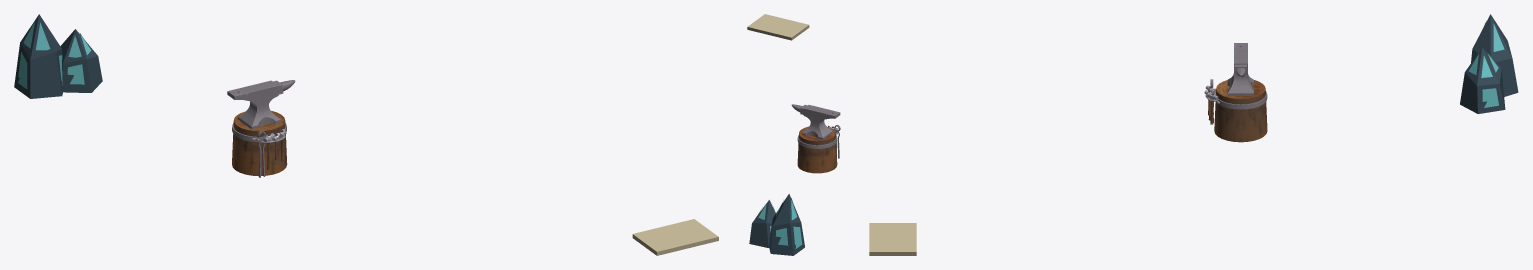
File: forge.gltf
3 renders of one model, left to right at view 1: azimuth 30°, elevation 25°; view 2: azimuth 150°, elevation 25°; view 3: azimuth 270°, elevation 25°, orthographic. The views are drawn at different scales.
Visible parts, largest first — view 1: 41a0ea4834ebc597b74c322625d4b3fb4d4337c8b31ded8edc607916fcb6, b7e1f3c480d365573cb99253e0b1e7ee9b26e4c36b6d7ffdde8a82f703c7, 9b1e8d24c83f2cb2d2683c226d16ac4140f04bdc688472a54ca071e9b6d0; view 2: b7e1f3c480d365573cb99253e0b1e7ee9b26e4c36b6d7ffdde8a82f703c7, 41a0ea4834ebc597b74c322625d4b3fb4d4337c8b31ded8edc607916fcb6, 9b1e8d24c83f2cb2d2683c226d16ac4140f04bdc688472a54ca071e9b6d0; view 3: b7e1f3c480d365573cb99253e0b1e7ee9b26e4c36b6d7ffdde8a82f703c7, 41a0ea4834ebc597b74c322625d4b3fb4d4337c8b31ded8edc607916fcb6, 9b1e8d24c83f2cb2d2683c226d16ac4140f04bdc688472a54ca071e9b6d0.
Boxes of the visible parts, <box> form: 41a0ea4834ebc597b74c322625d4b3fb4d4337c8b31ded8edc607916fcb6: <box>14,14,102,98</box>; b7e1f3c480d365573cb99253e0b1e7ee9b26e4c36b6d7ffdde8a82f703c7: <box>227,80,295,177</box>; 9b1e8d24c83f2cb2d2683c226d16ac4140f04bdc688472a54ca071e9b6d0: <box>632,219,718,255</box>; b7e1f3c480d365573cb99253e0b1e7ee9b26e4c36b6d7ffdde8a82f703c7: <box>791,104,840,173</box>; 41a0ea4834ebc597b74c322625d4b3fb4d4337c8b31ded8edc607916fcb6: <box>749,194,804,255</box>; 9b1e8d24c83f2cb2d2683c226d16ac4140f04bdc688472a54ca071e9b6d0: <box>747,14,809,40</box>; b7e1f3c480d365573cb99253e0b1e7ee9b26e4c36b6d7ffdde8a82f703c7: <box>1204,43,1267,142</box>; 41a0ea4834ebc597b74c322625d4b3fb4d4337c8b31ded8edc607916fcb6: <box>1460,14,1518,113</box>; 9b1e8d24c83f2cb2d2683c226d16ac4140f04bdc688472a54ca071e9b6d0: <box>869,223,916,255</box>.
Bounding box in the file's own units: 4.82 × 0.96 × 7.57.
Materials: 5 (4 with a texture image).
